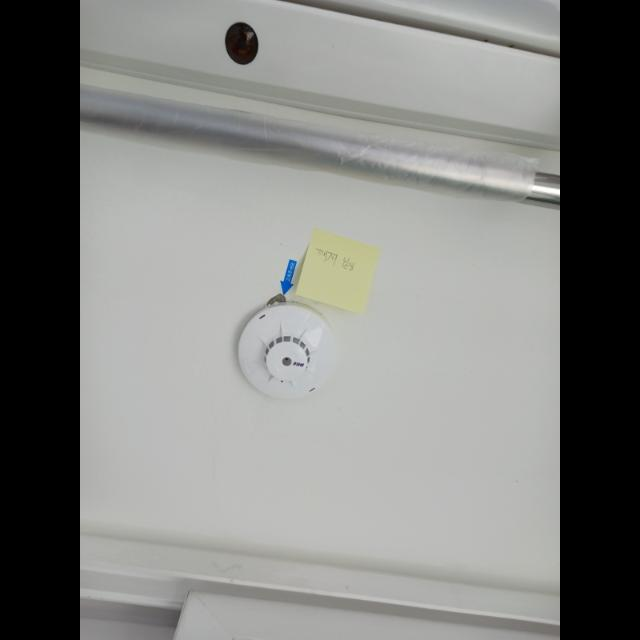Smoke-Detector: (238, 303, 334, 401)
